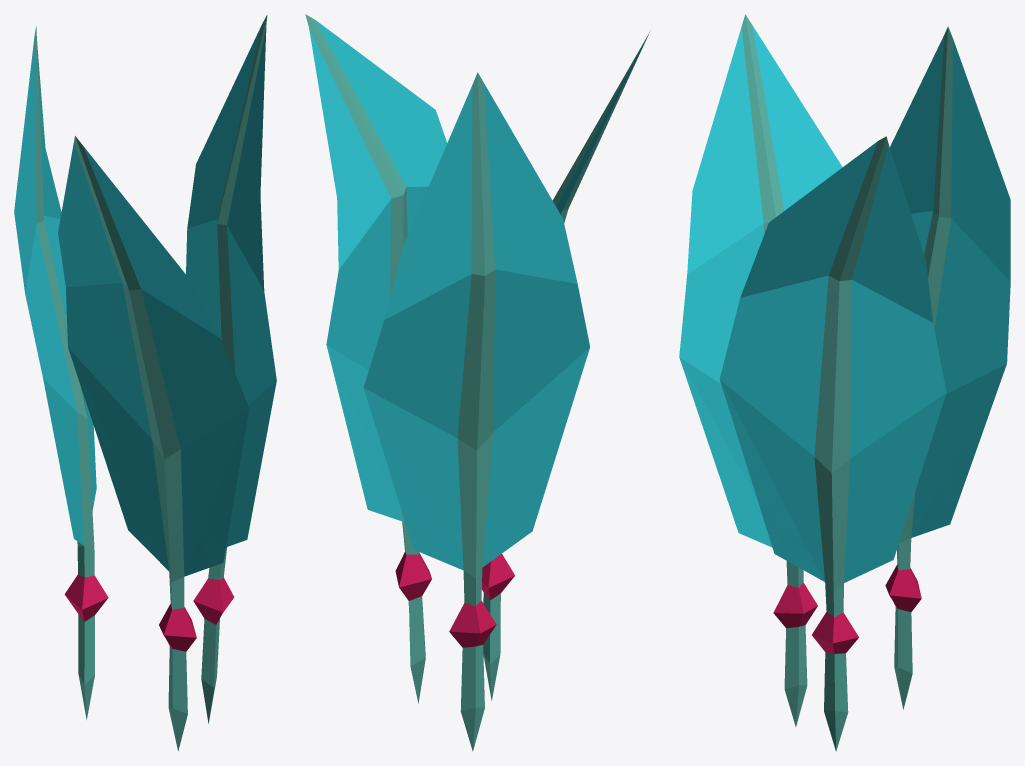
File: Gras_04_Var_01.fbx
3 renders of one model, left to right at view 1: azimuth 30°, elevation 25°; view 2: azimuth 150°, elevation 25°; view 3: azimuth 270°, elevation 25°, orthographic. The views are drawn at different scales.
Parts seen in each view (by area): view 1: Gras_04_Var_01; view 2: Gras_04_Var_01; view 3: Gras_04_Var_01.
Boxes of the visible parts, <box> form: Gras_04_Var_01: <box>14,15,276,751</box>; Gras_04_Var_01: <box>305,14,649,751</box>; Gras_04_Var_01: <box>679,14,1010,751</box>.
Bounding box in the file's own units: 0.1158 × 0.2586 × 0.1044.
